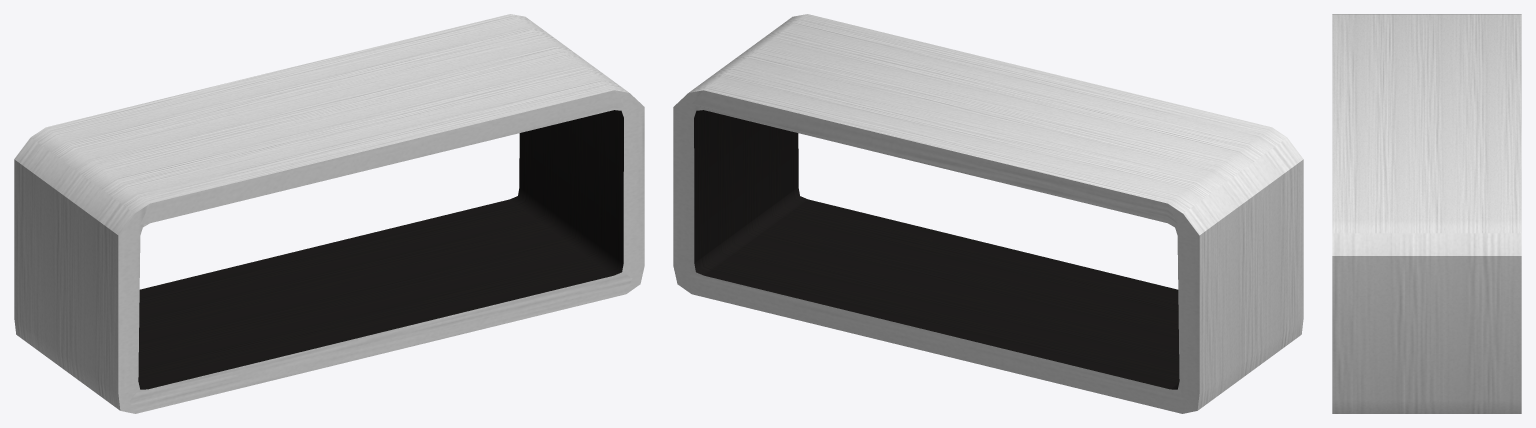
The model's file is Wall_Shelf_01_G.FBX.
The picture shows the model from 3 angles, left to right: view 1: azimuth 30°, elevation 25°; view 2: azimuth 150°, elevation 25°; view 3: azimuth 270°, elevation 25°; orthographic projection. The views are drawn at different scales.
Visible parts, largest first — view 1: Wall_Shelf; view 2: Wall_Shelf; view 3: Wall_Shelf.
Part boxes in pixels (x1,y1,x2,y2): Wall_Shelf: [14, 14, 644, 413]; Wall_Shelf: [673, 14, 1303, 413]; Wall_Shelf: [1332, 14, 1521, 413].
Size of the model in its own units: 160 by 60.21 by 54.97.
